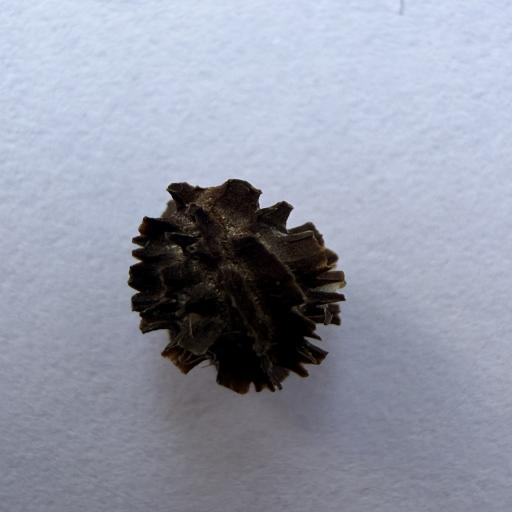papaya_seed: (107, 158, 376, 405)
